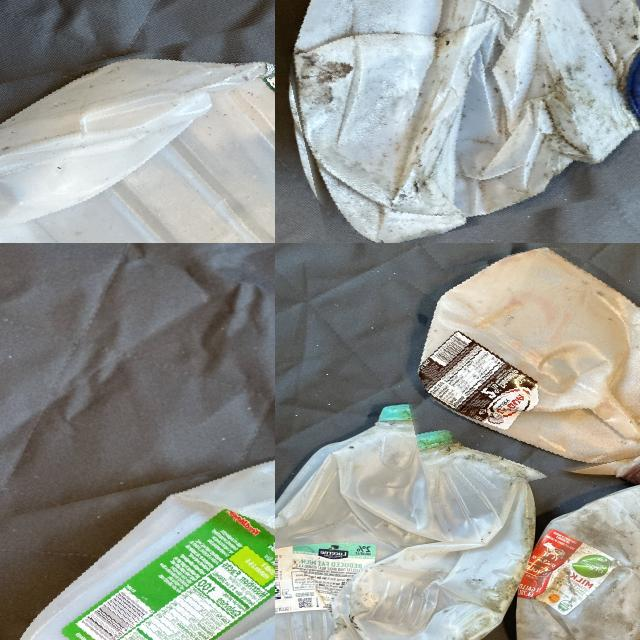milk-jug: (275, 0, 640, 240), (275, 401, 542, 640), (391, 243, 640, 488), (0, 24, 275, 243), (0, 434, 275, 640), (512, 469, 640, 640)
